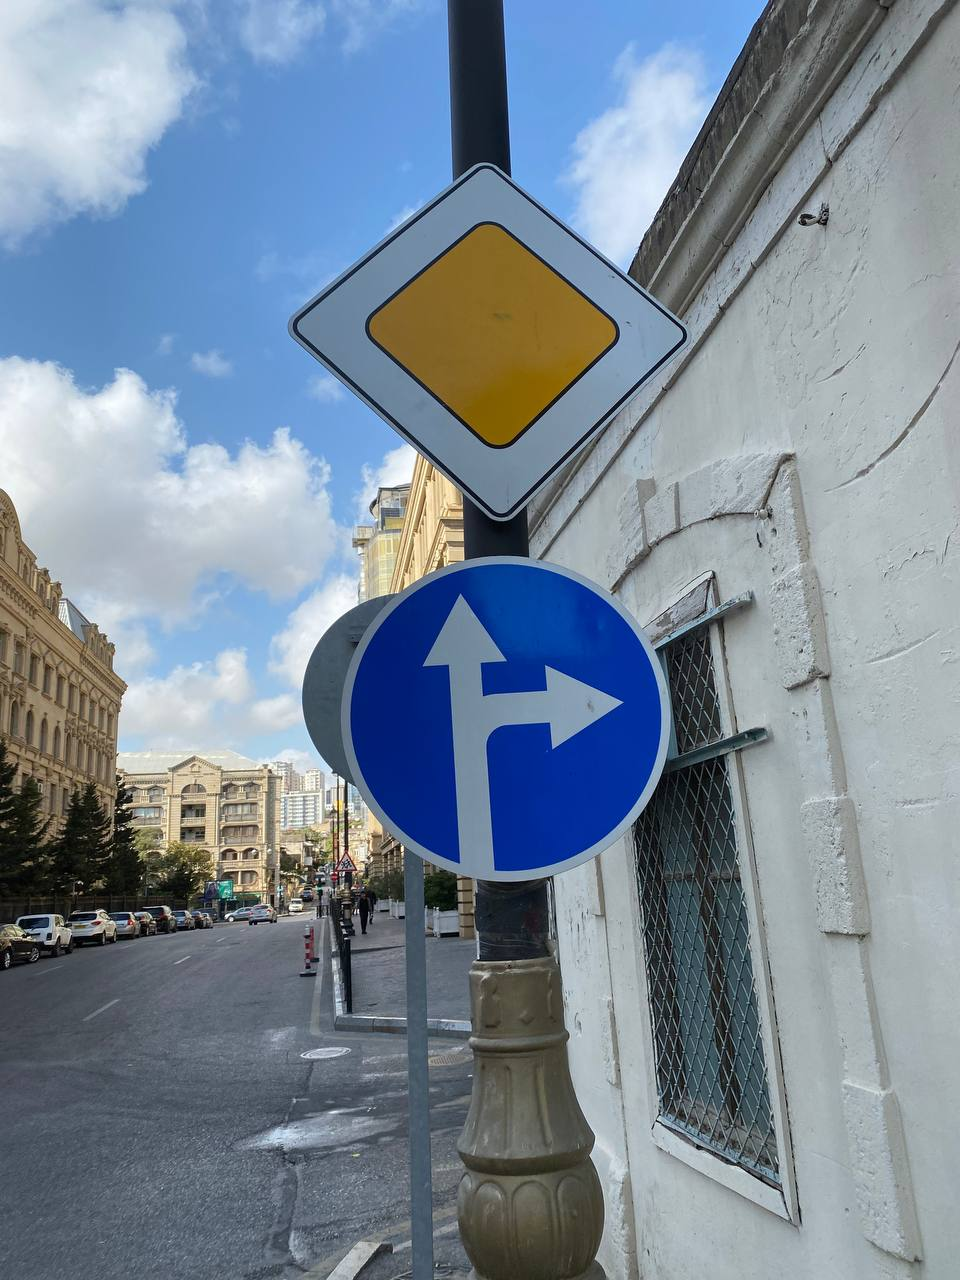Main Road: (286, 162, 691, 521)
Straight or Right: (342, 556, 672, 882)
